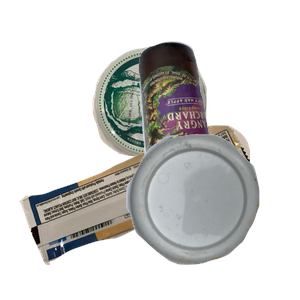glass: (136, 39, 300, 219)
metal: (90, 44, 289, 195)
plastic: (124, 132, 300, 300)
trash: (17, 123, 257, 300)
